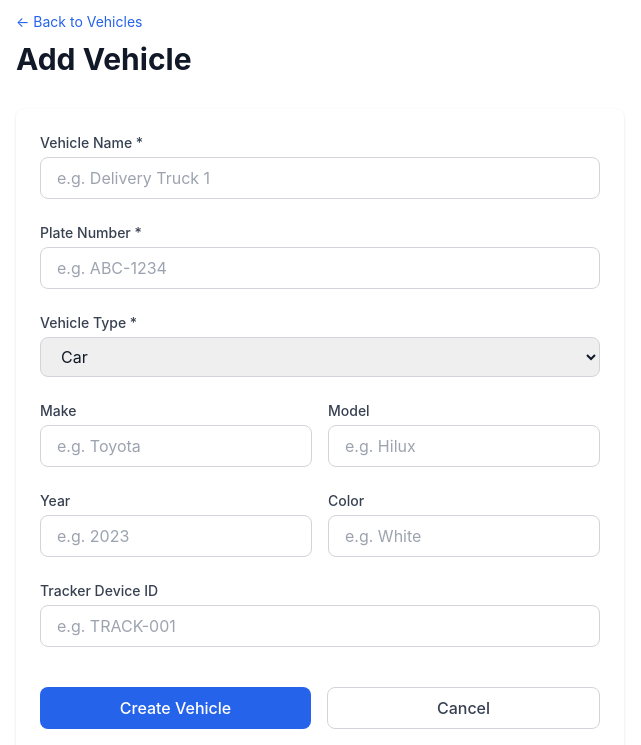
Test: CreateVehiclePage › falls back to a generic message when the API gives no detail
Type "Delivery Van 1" into the field labelled "Vehicle Name *" at (320, 178), box top-left (40, 157), bottom-right (600, 199)
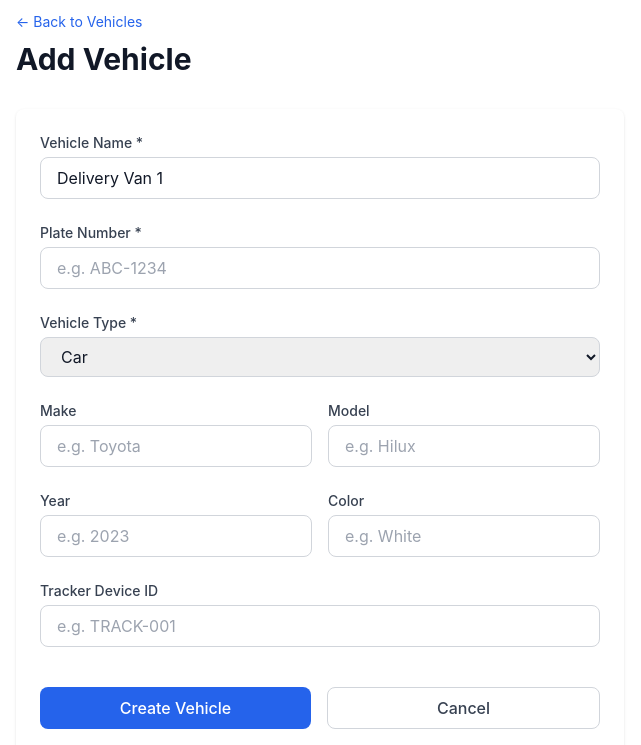
Type "AA-1234" into the field labelled "Plate Number *" at (320, 268), box top-left (40, 247), bottom-right (600, 289)
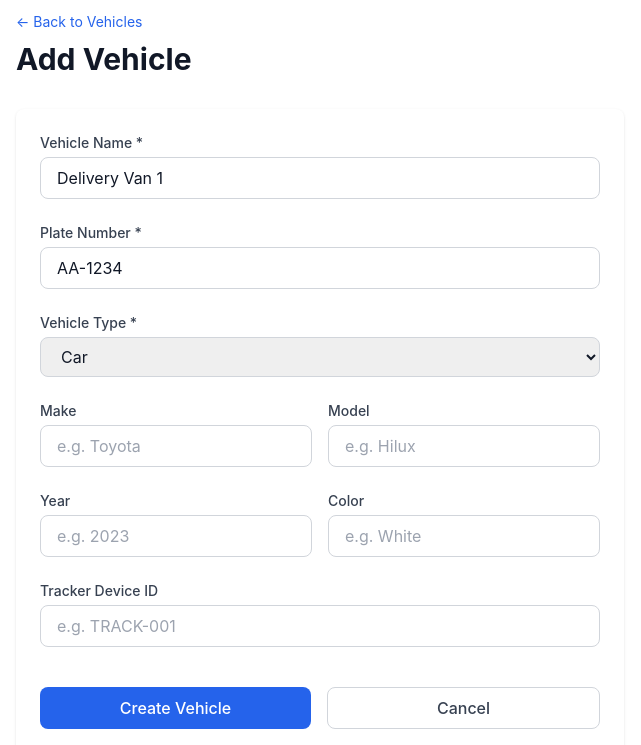
Click the button "Create Vehicle" at (176, 708), box top-left (40, 687), bottom-right (311, 729)
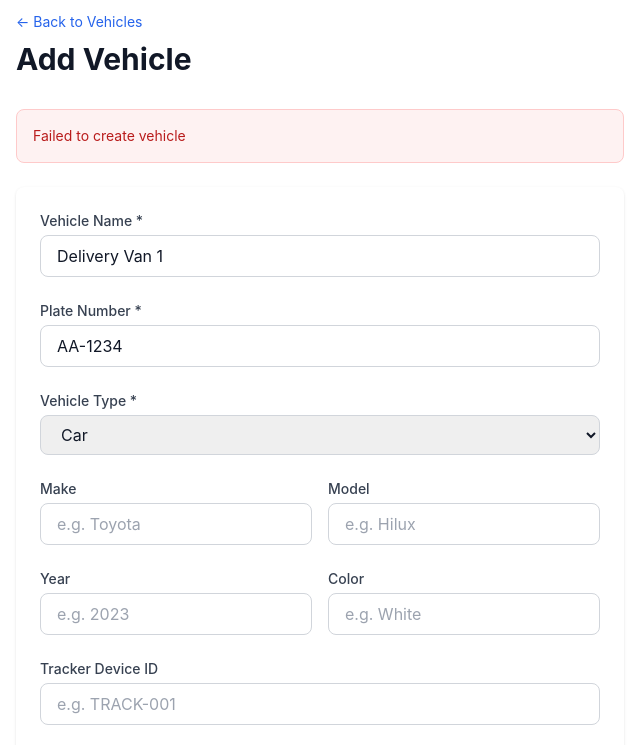
Expected: the text "Failed to create vehicle" is shown, top-left (16, 109), bottom-right (624, 163)
